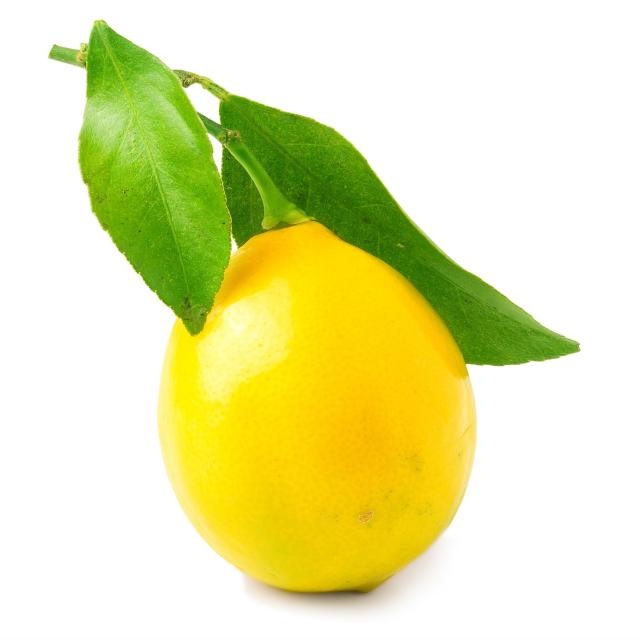lemon: (146, 207, 488, 608)
